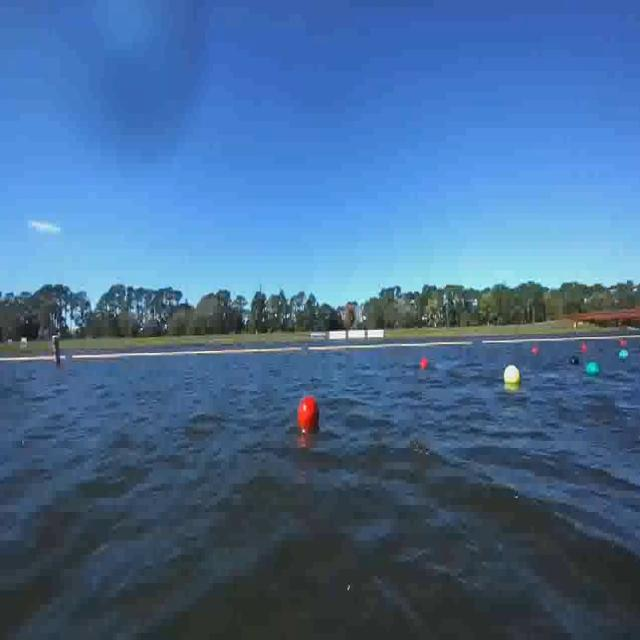black-buoy: (569, 356, 579, 365)
green-buoy: (586, 361, 600, 376)
red-buoy: (299, 397, 320, 431), (421, 358, 430, 369)
yellow-buoy: (503, 366, 520, 386)
